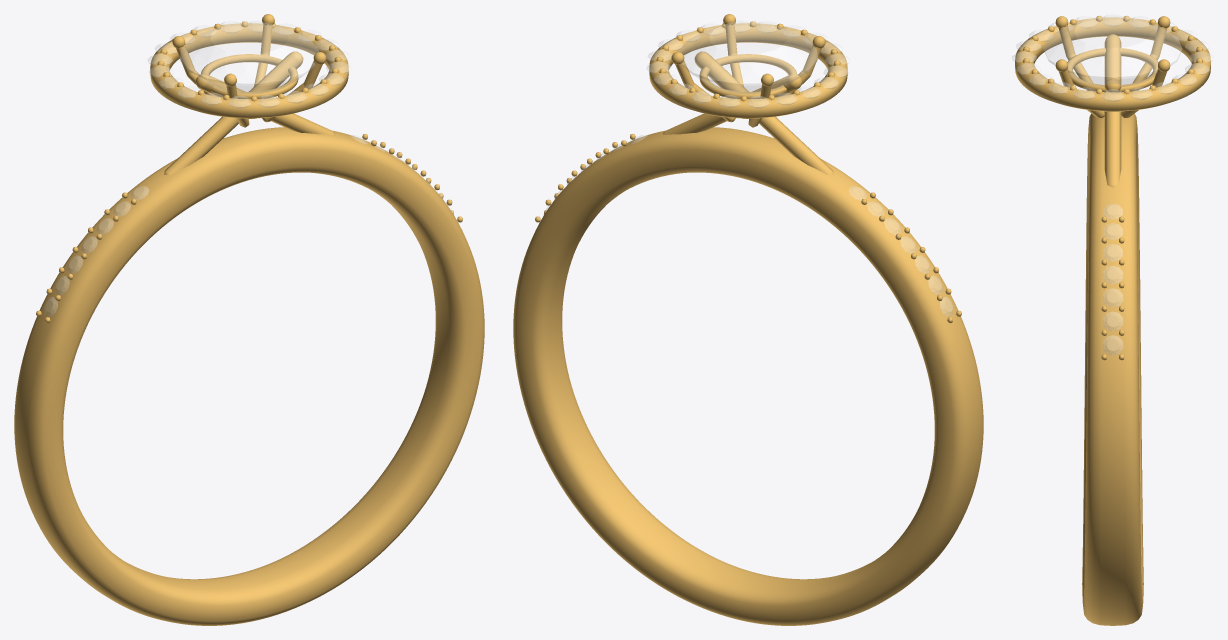
Rendered from gold-engagement-ring.glb.
The picture shows the model from 3 angles, left to right: view 1: azimuth 30°, elevation 25°; view 2: azimuth 150°, elevation 25°; view 3: azimuth 270°, elevation 25°; orthographic projection.
Visible parts, largest first — view 1: metal, diamond; view 2: metal, diamond; view 3: metal, diamond.
Part boxes in pixels (box(x1,y1,x2,y2)): metal: box(14, 14, 484, 625); diamond: box(44, 20, 453, 316); metal: box(513, 14, 983, 625); diamond: box(544, 20, 953, 316); metal: box(1015, 15, 1210, 625); diamond: box(1012, 14, 1213, 354).
Size of the model in its own units: 2.03 by 2.45 by 0.7851.
